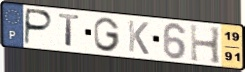6: (162, 22, 188, 61)
G: (92, 16, 122, 53)
H: (189, 22, 223, 66)
K: (127, 19, 151, 56)
P: (23, 7, 55, 46)
T: (57, 12, 82, 49)
